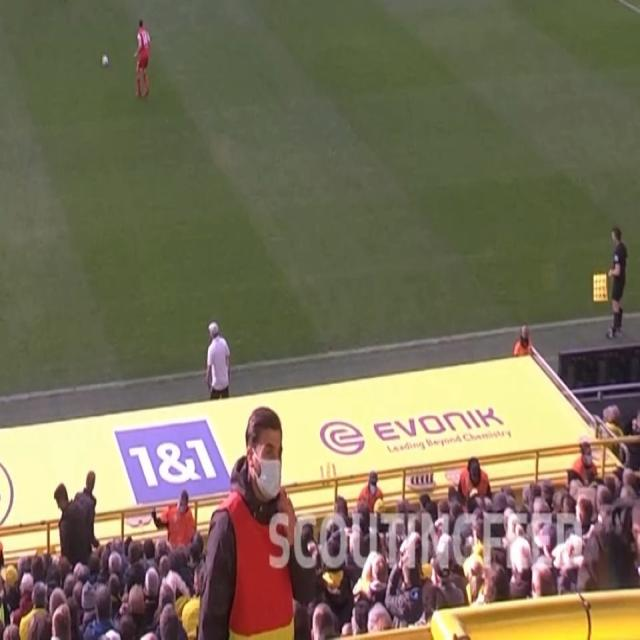ball: (100, 53, 110, 68)
